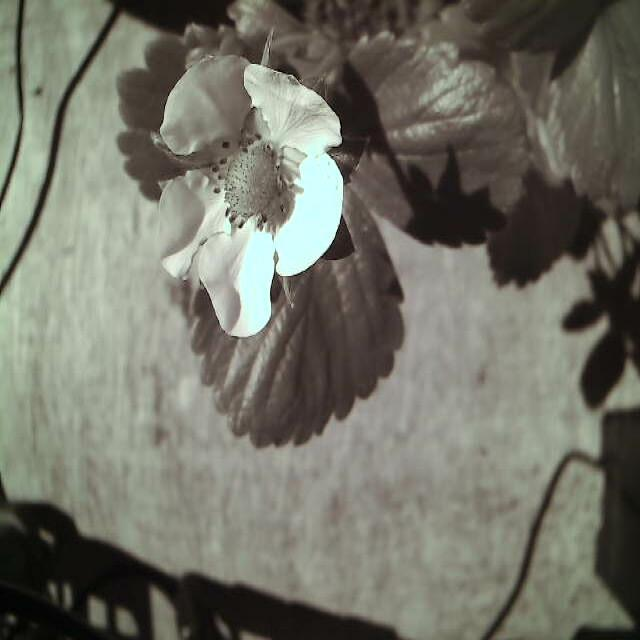flower: (153, 38, 342, 344)
